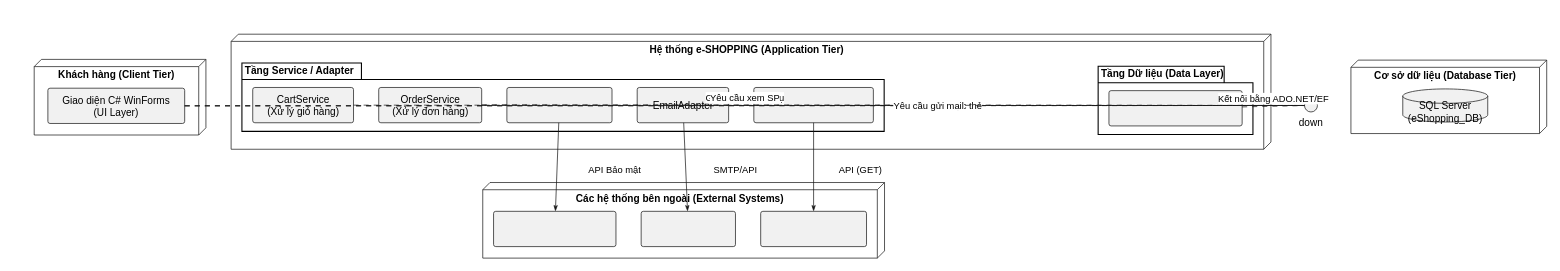
This 1560x271 diagram has some shape labels left out. Here are the shapes that lost their labels. From the top down, the centre of each, then its label:
At point (559, 105): "PaymentAdapter".
At point (813, 105): "ProductAdapter (Yêu cầu sản phẩm)".
At point (1175, 108): "DataAccessRepository".
At point (554, 229): "Hệ thống Thanh toán trực tuyến".
At point (687, 229): "Dịch vụ Email (SMTP)".
At point (813, 229): "Hệ thống Quản lý Sản phẩm".
